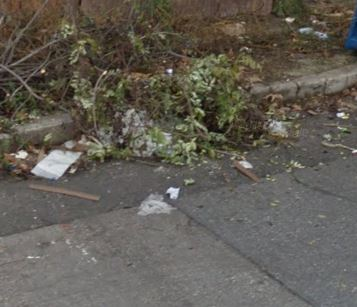trash: (3, 129, 87, 187), (131, 178, 182, 218), (281, 19, 340, 45), (260, 114, 300, 143)
